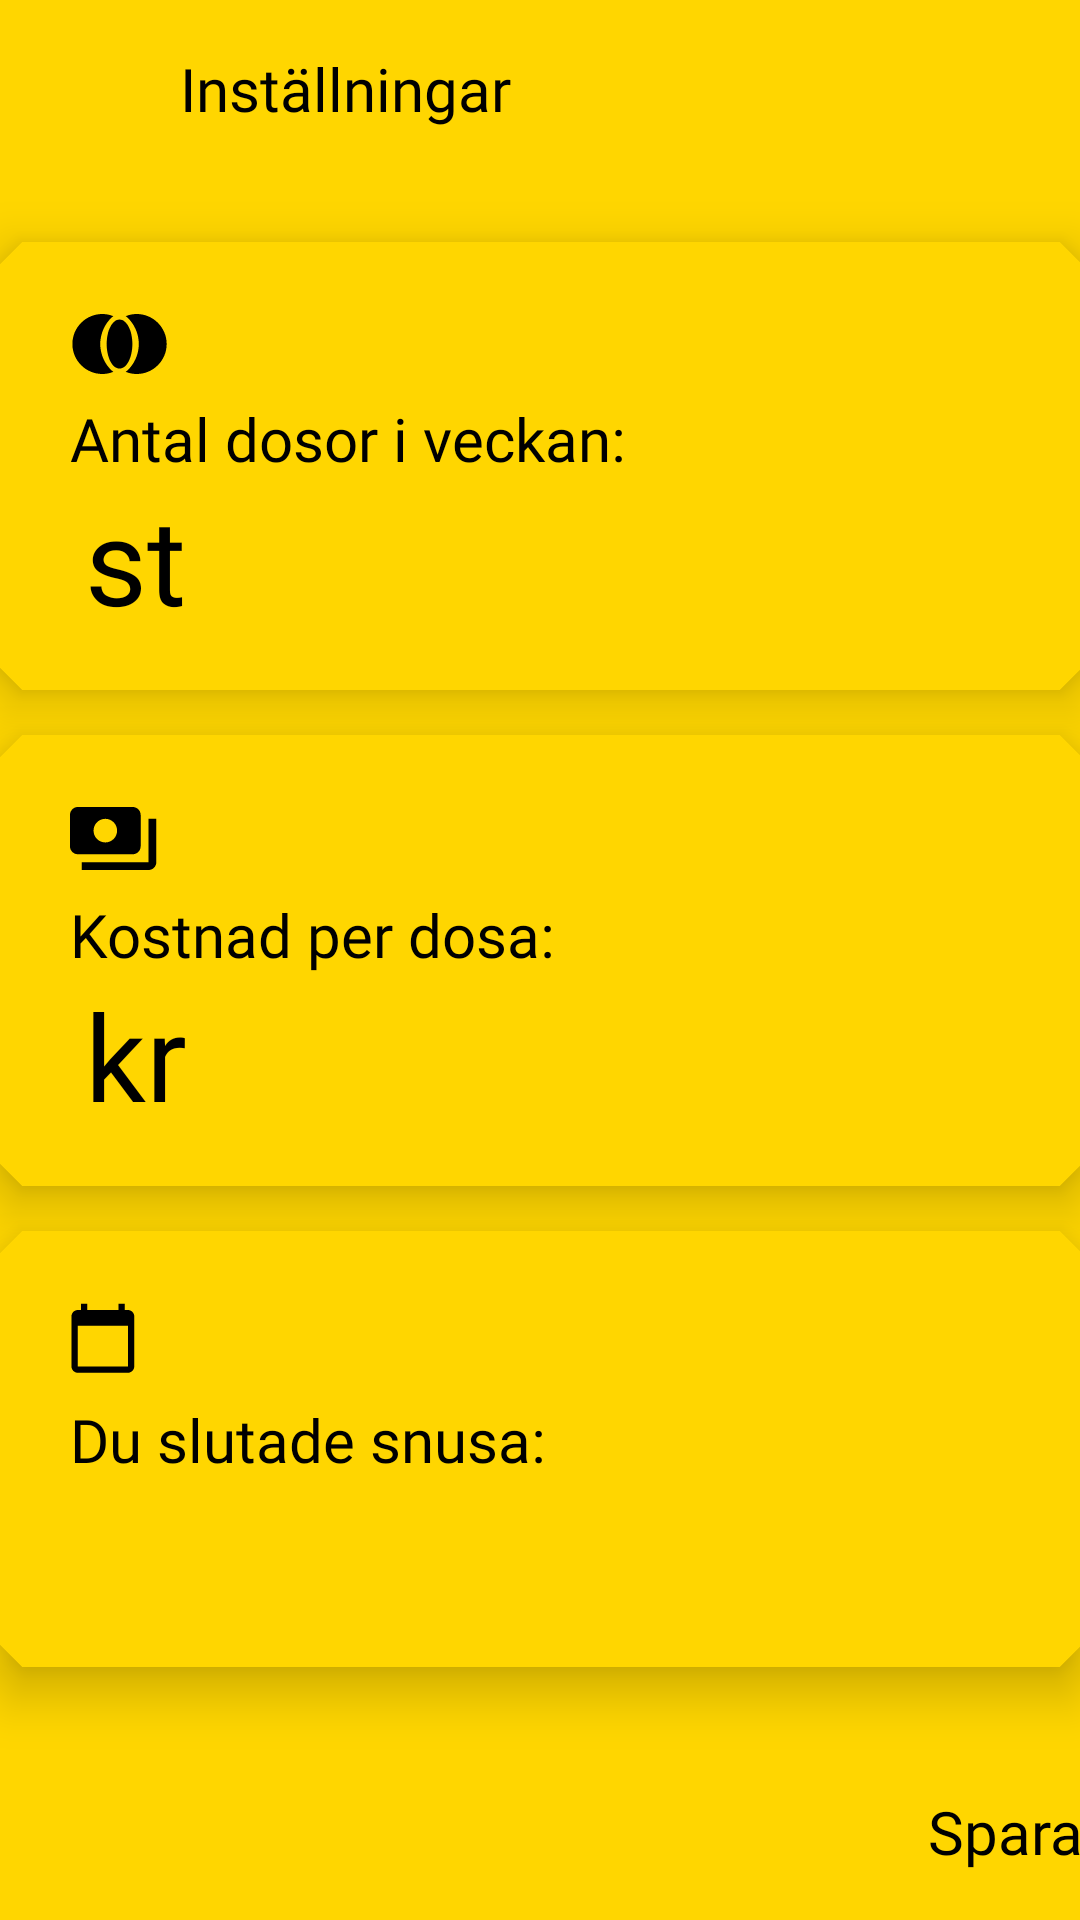

Named icons in this screenshot (1080x1920) and their bounding boxes, [left=x1, top=y1, right=x2, bottom=y2]:
calendar: [left=71, top=1303, right=135, bottom=1373]
Cost icon: [left=70, top=807, right=157, bottom=870]
